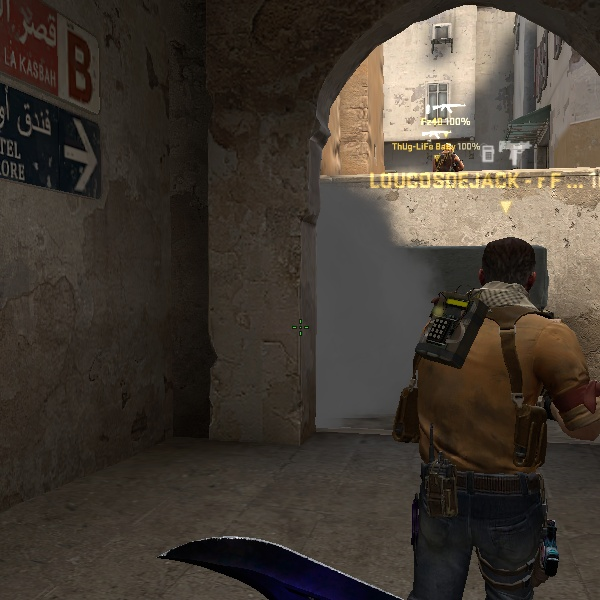t_body: (384, 224, 592, 600)
t_head: (476, 232, 546, 302)
